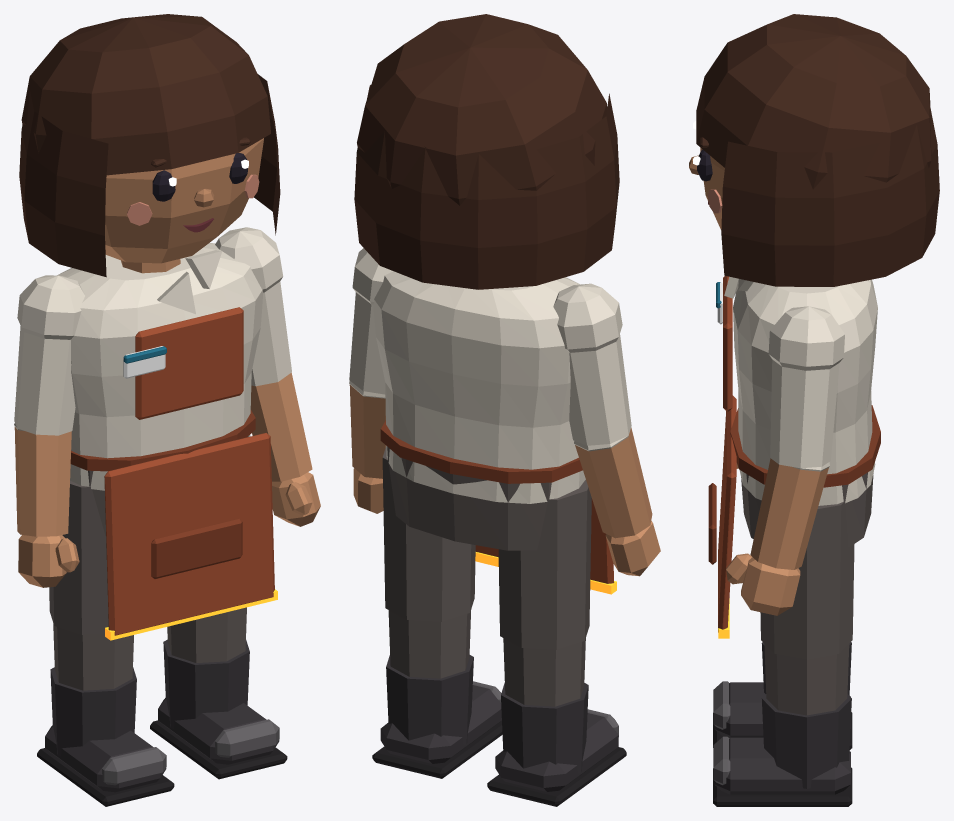
Rendered from kas_emb.glb.
3 renders of one model, left to right at view 1: azimuth 30°, elevation 25°; view 2: azimuth 150°, elevation 25°; view 3: azimuth 270°, elevation 25°, orthographic.
Visible parts, largest first — view 1: haare, schürze, torso, arm_r, schuh_l, schuh_r, kopf, bein_r, arm_l, bein_l, hand_r, gesicht (+3 smaller); view 2: haare, torso, bein_r, arm_r, bein_l, schuh_r, schuh_l, becken, arm_l, schürze, hand_r, hand_l; view 3: haare, arm_l, torso, bein_l, schuh_l, schürze, schuh_r, hand_l, becken, gesicht, kopf.
Part boxes in pixels (x1,y1,x2,y2): haare: [19, 14, 280, 277]; schürze: [70, 307, 277, 640]; torso: [57, 243, 263, 490]; arm_r: [14, 275, 84, 536]; schuh_l: [150, 639, 287, 779]; schuh_r: [37, 667, 174, 806]; kopf: [105, 138, 263, 263]; bein_r: [49, 480, 133, 690]; arm_l: [215, 227, 312, 481]; bein_l: [167, 435, 250, 662]; hand_r: [18, 535, 79, 587]; gesicht: [127, 137, 259, 232]; haare: [354, 14, 619, 289]; torso: [373, 271, 585, 503]; bein_r: [498, 479, 591, 706]; arm_r: [553, 283, 652, 538]; bein_l: [382, 446, 475, 678]; schuh_r: [487, 682, 626, 806]; schuh_l: [372, 655, 502, 778]; becken: [387, 447, 551, 550]; arm_l: [349, 248, 393, 478]; schürze: [380, 420, 616, 594]; hand_r: [605, 521, 660, 576]; hand_l: [353, 468, 383, 513]; haare: [696, 14, 939, 286]; arm_l: [750, 306, 844, 569]; torso: [733, 279, 877, 505]; bein_l: [760, 501, 854, 715]; schuh_l: [713, 694, 852, 806]; schürze: [708, 276, 880, 638]; schuh_r: [713, 642, 852, 749]; hand_l: [726, 553, 800, 615]; becken: [741, 472, 873, 547]; gesicht: [689, 121, 722, 213]; kopf: [700, 147, 724, 229].
Bounding box in the file's own units: 0.0103 × 0.0245 × 0.00763.
